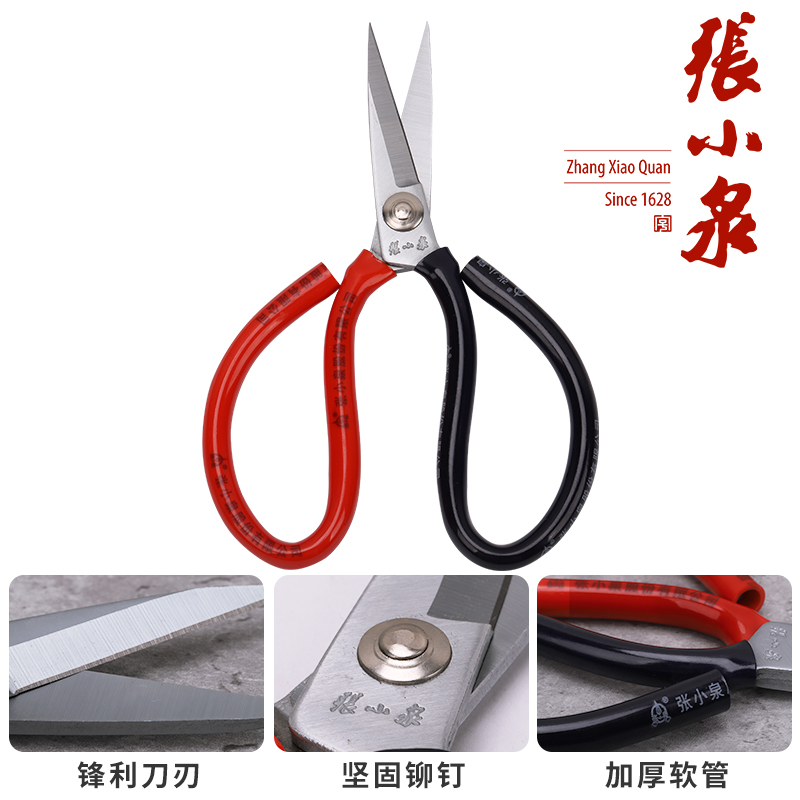scissors: (201, 9, 603, 574)
